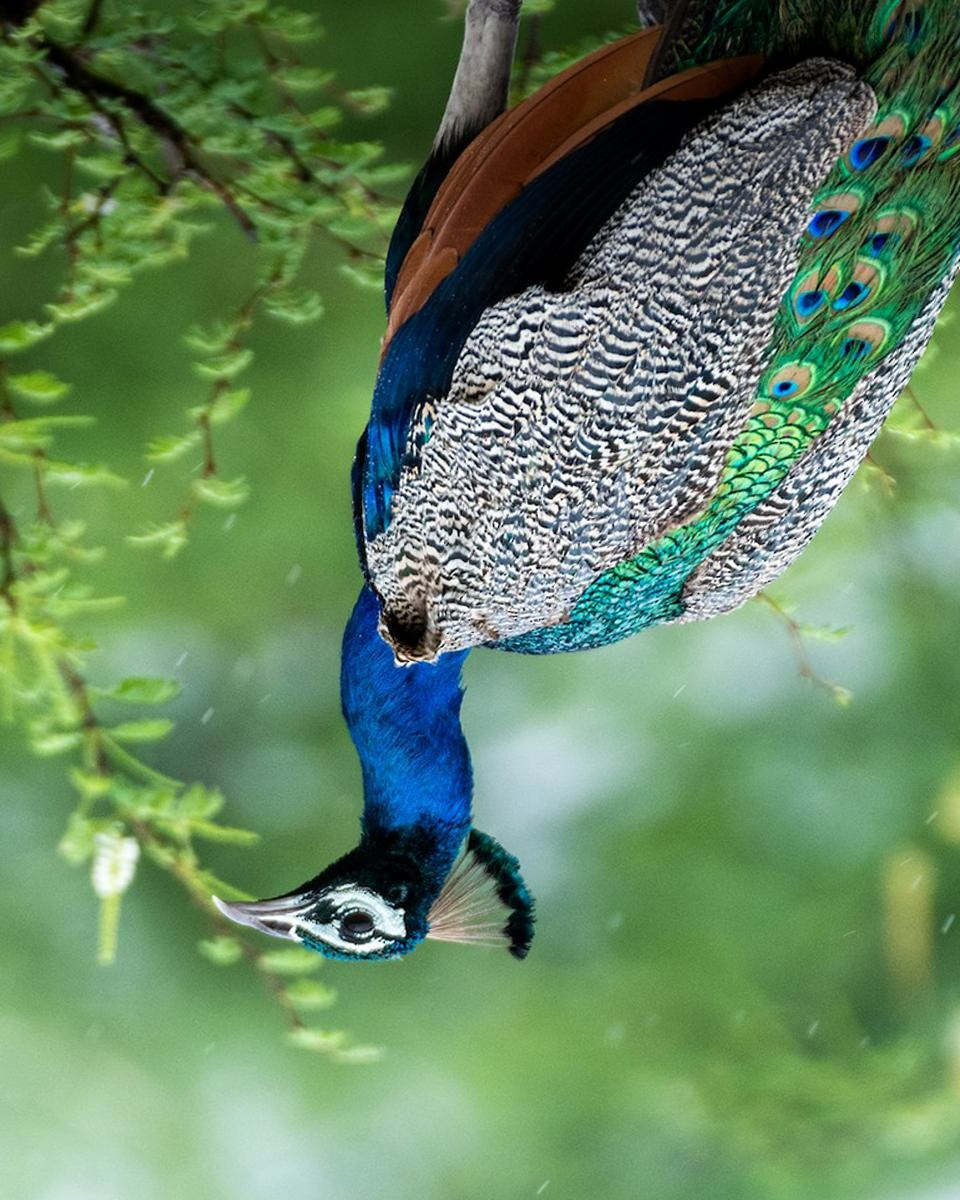peacock: (216, 51, 892, 1001)
